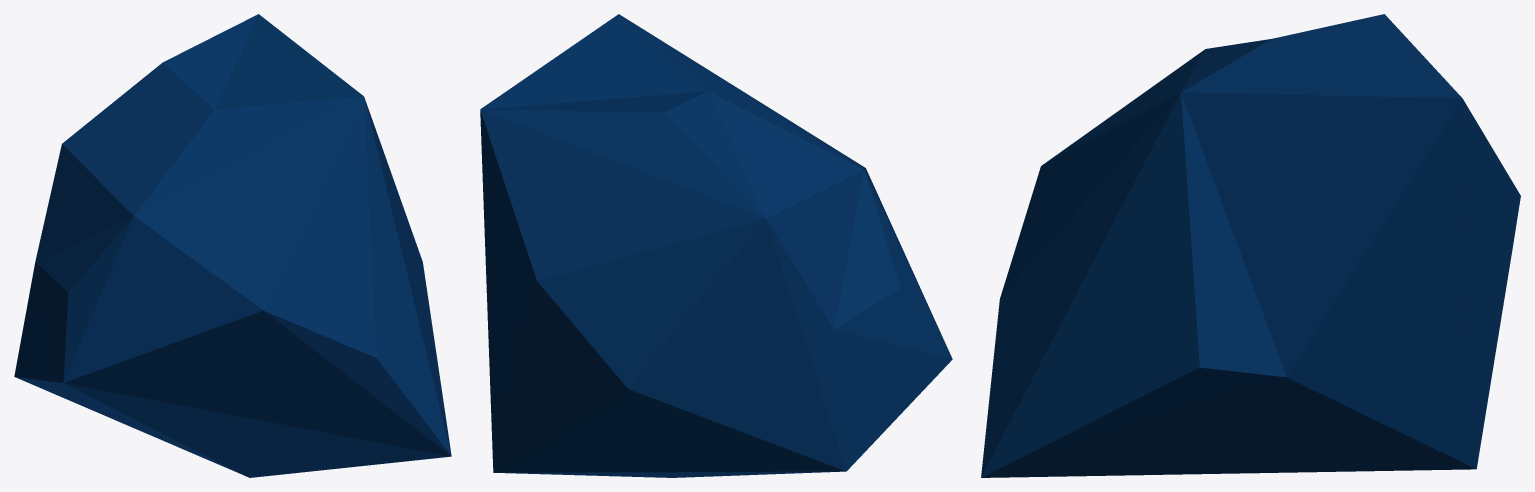
The model's file is Cave_stone_5.glb.
The picture shows the model from 3 angles, left to right: view 1: azimuth 30°, elevation 25°; view 2: azimuth 150°, elevation 25°; view 3: azimuth 270°, elevation 25°; orthographic projection. The views are drawn at different scales.
Visible parts, largest first — view 1: Cave_stone_05; view 2: Cave_stone_05; view 3: Cave_stone_05.
Part boxes in pixels (left/top/right/bottom): Cave_stone_05: left=14, top=14, right=451, bottom=477; Cave_stone_05: left=480, top=14, right=952, bottom=477; Cave_stone_05: left=981, top=14, right=1520, bottom=477.
Bounding box in the file's own units: 0.2426 × 0.2159 × 0.2513.
